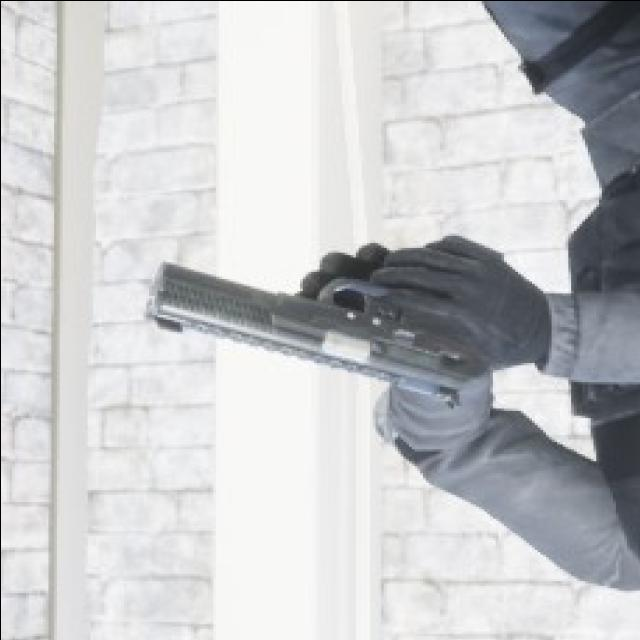pistol: (145, 238, 488, 403)
